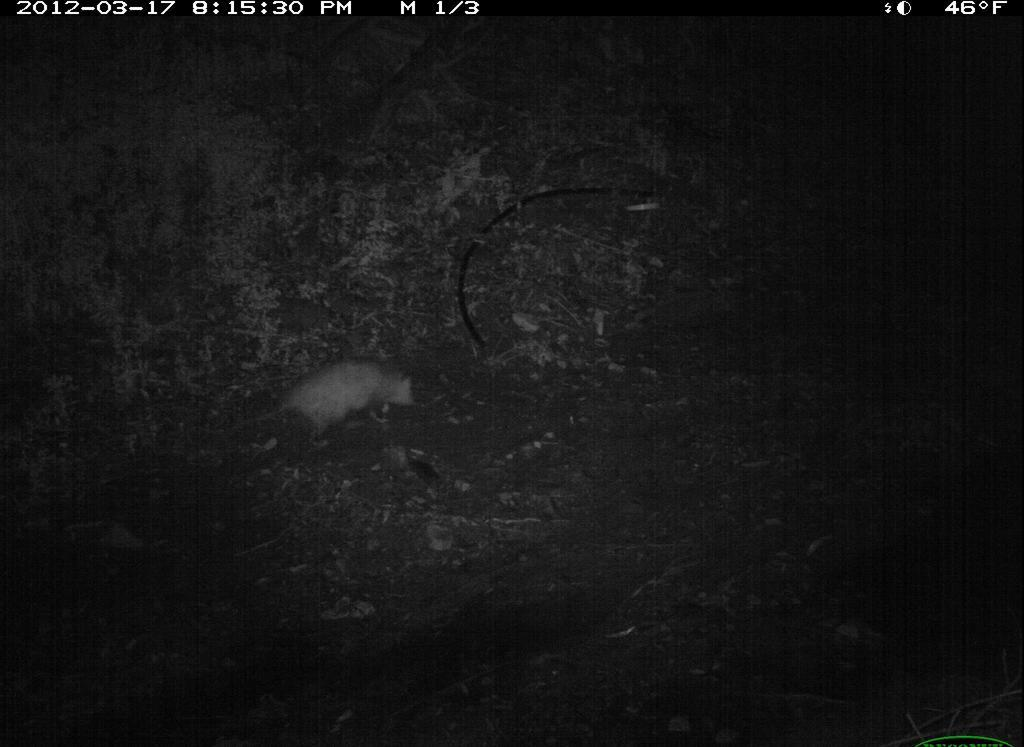opossum: (233, 352, 438, 456)
